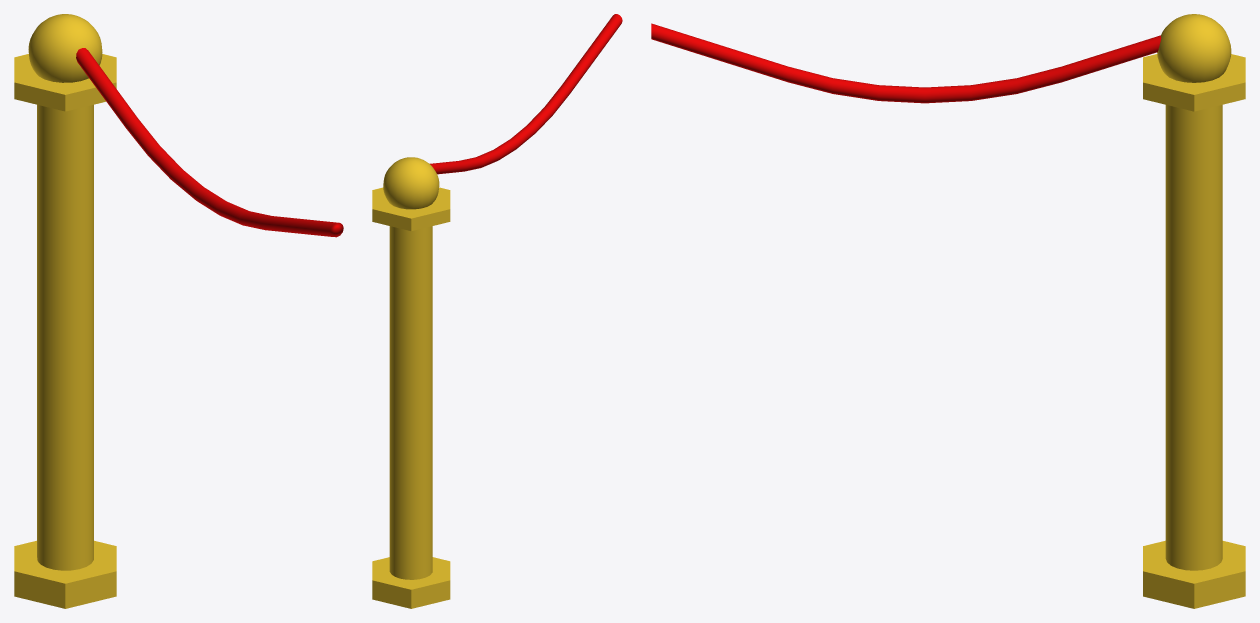
Rendered from poll.fbx.
3 renders of one model, left to right at view 1: azimuth 30°, elevation 25°; view 2: azimuth 150°, elevation 25°; view 3: azimuth 270°, elevation 25°, orthographic. The views are drawn at different scales.
Visible parts, largest first — view 1: pCylinder17, pCylinder15, pCylinder16, pSphere1, pCylinder18; view 2: pCylinder17, pCylinder15, pCylinder16, pSphere1, pCylinder18; view 3: pCylinder17, pCylinder15, pCylinder16, pSphere1, pCylinder18.
Boxes of the visible parts, x1=… form: pCylinder17: x1=37, y1=104, x2=93, y2=570; pCylinder15: x1=76, y1=48, x2=343, y2=237; pCylinder16: x1=14, y1=540, x2=116, y2=608; pSphere1: x1=28, y1=14, x2=102, y2=82; pCylinder18: x1=14, y1=54, x2=116, y2=111; pCylinder17: x1=389, y1=226, x2=432, y2=579; pCylinder15: x1=430, y1=14, x2=622, y2=174; pCylinder16: x1=372, y1=557, x2=450, y2=608; pSphere1: x1=383, y1=157, x2=439, y2=209; pCylinder18: x1=372, y1=187, x2=450, y2=231; pCylinder17: x1=1165, y1=105, x2=1222, y2=570; pCylinder15: x1=651, y1=23, x2=1161, y2=103; pCylinder16: x1=1143, y1=540, x2=1245, y2=608; pSphere1: x1=1157, y1=14, x2=1231, y2=82; pCylinder18: x1=1143, y1=54, x2=1245, y2=111.
Bounding box in the file's own units: 4.38 × 23.12 × 21.97.
